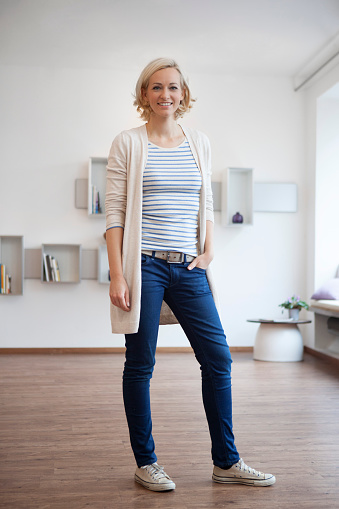em pe: (99, 57, 241, 499)
